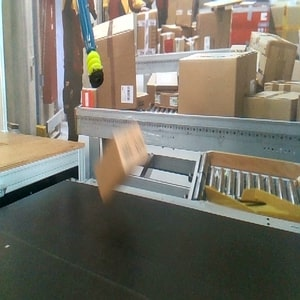box: (94, 120, 151, 206)
